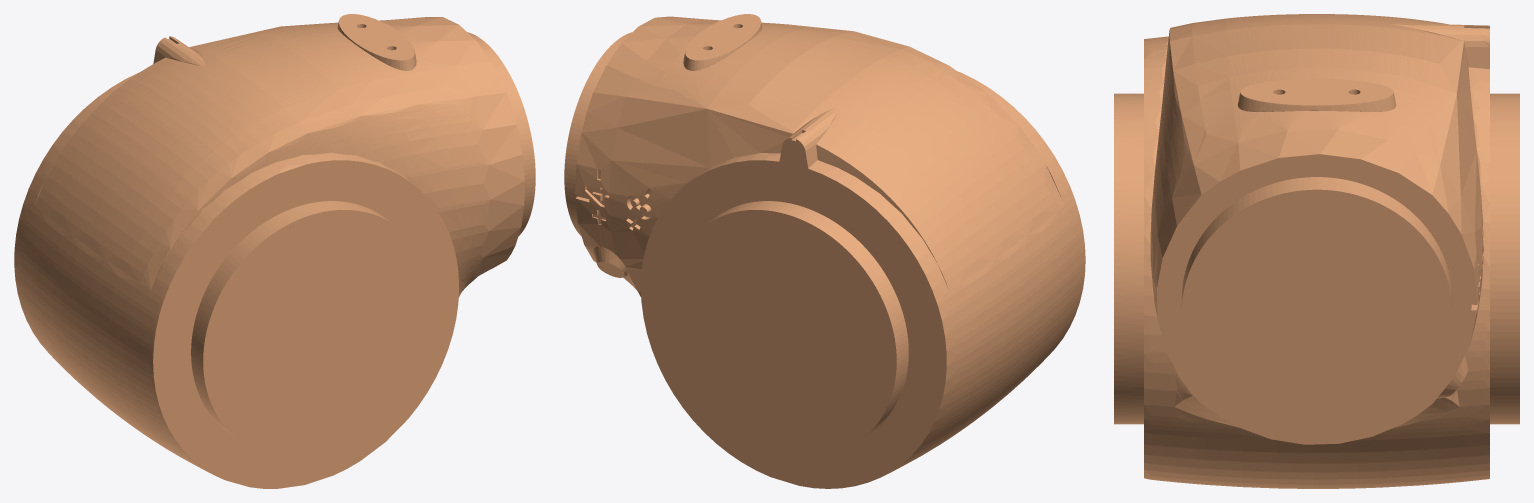
The picture shows the model from 3 angles, left to right: view 1: azimuth 30°, elevation 25°; view 2: azimuth 150°, elevation 25°; view 3: azimuth 270°, elevation 25°; orthographic projection. The views are drawn at different scales.
Parts seen in each view (by area): view 1: link_3; view 2: link_3; view 3: link_3.
Boxes of the visible parts, x1,y1,x2,y2 form: link_3: [14, 14, 535, 488]; link_3: [564, 14, 1085, 488]; link_3: [1114, 14, 1519, 488].
Bounding box in the file's own units: 0.1935 × 0.135 × 0.169.
